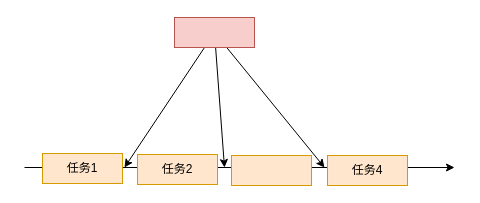
Image size: 480x203. Some labels were removed from this diagram. Each missing label, with the centre of its shape:
任务3: [271,170]
暂停点: [214,32]
